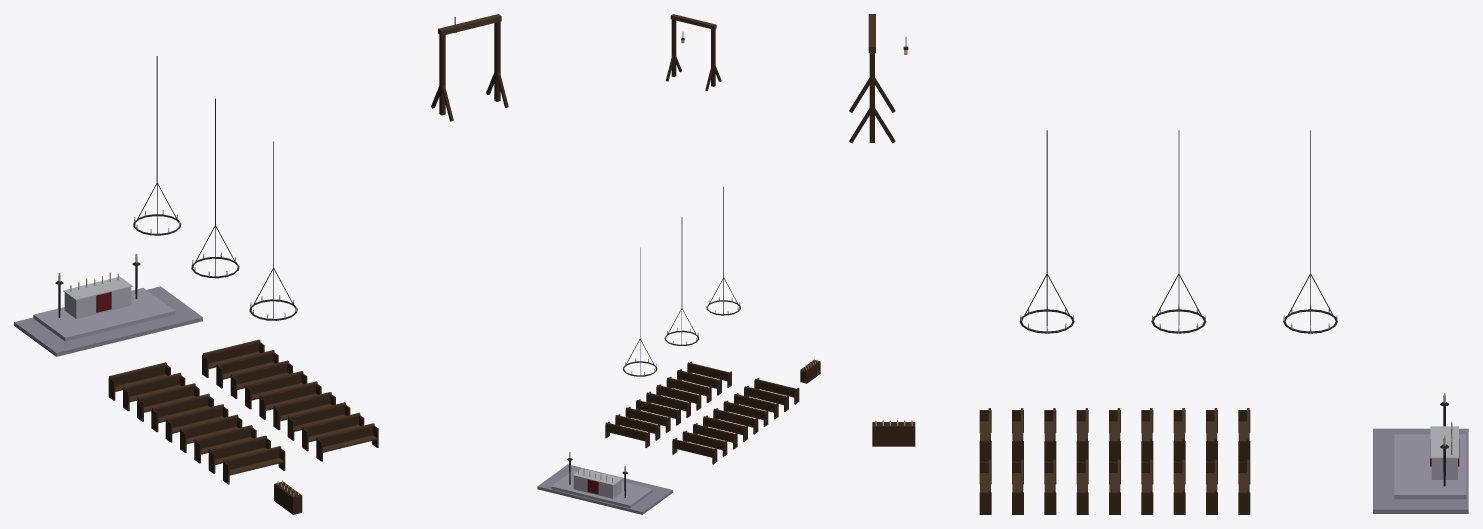
The model's file is cathedral-furnishing.glb.
The picture shows the model from 3 angles, left to right: view 1: azimuth 30°, elevation 25°; view 2: azimuth 150°, elevation 25°; view 3: azimuth 270°, elevation 25°; orthographic projection. The views are drawn at different scales.
Parts seen in each view (by area): view 1: cathedral-furnishing; view 2: cathedral-furnishing; view 3: cathedral-furnishing.
Boxes of the visible parts, x1,y1,x2,y2 form: cathedral-furnishing: (14,14,508,514); cathedral-furnishing: (537,14,820,514); cathedral-furnishing: (849,14,1468,514).
Size of the model in its own units: 12.26 by 23.43 by 25.86.
